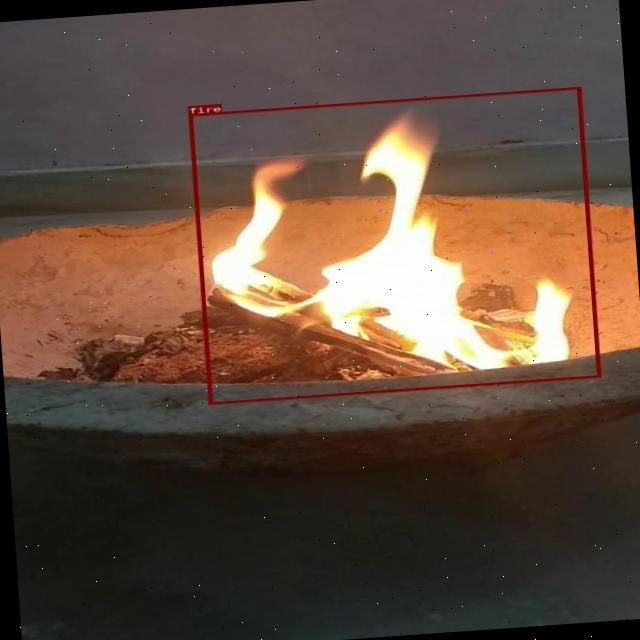fire: (188, 86, 600, 404)
